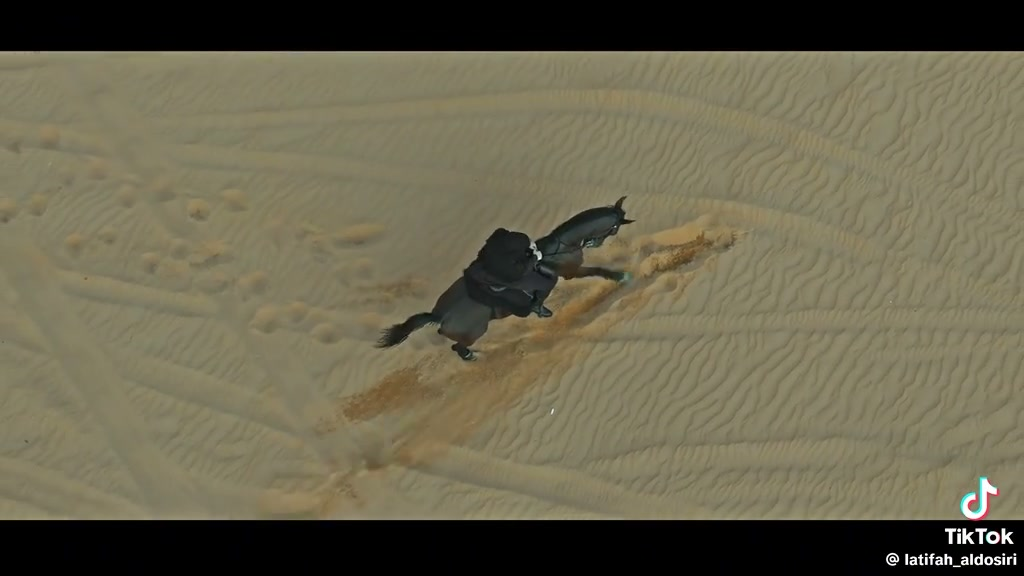animal: (536, 196, 633, 281)
human: (6, 452, 200, 530), (464, 228, 556, 317)
vehicle_track: (8, 82, 1014, 228), (25, 291, 660, 513), (117, 121, 419, 529), (78, 269, 1023, 337), (10, 228, 210, 513)
